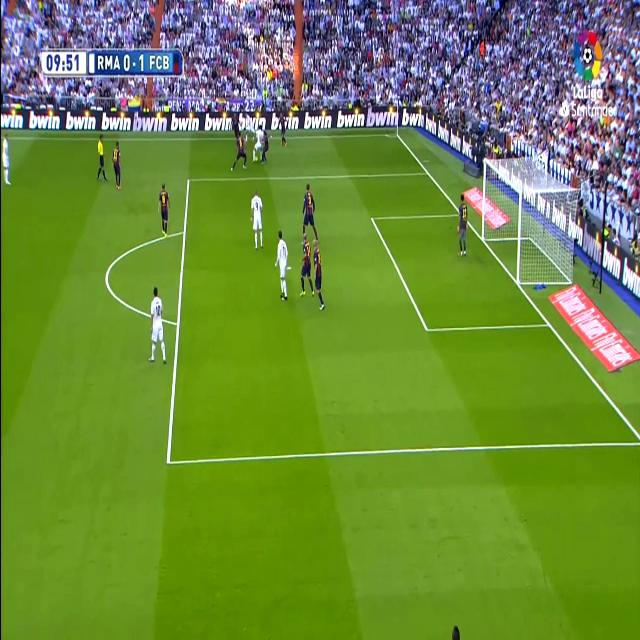bigarea_bottom_inner: (422, 316, 432, 342)
bigarea_top_inner: (368, 210, 376, 227)
bigarea_top_outter: (424, 165, 431, 178)
corner: (392, 129, 400, 139)
smallarea_bottom_outter: (544, 312, 554, 334)
smallarea_top_outter: (457, 207, 461, 220)
